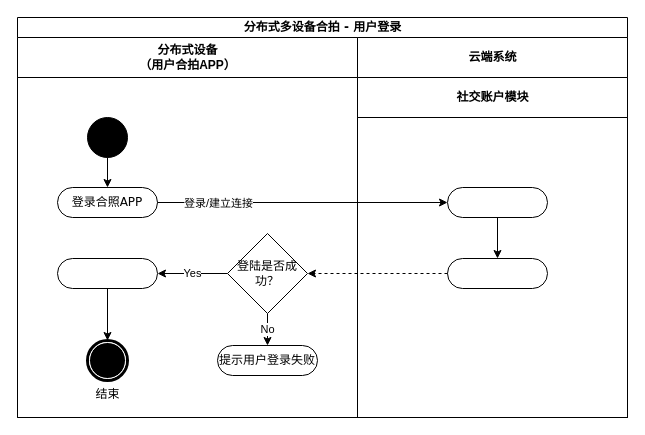
Image size: 645x435. Some labels were removed from this diagram. The centre of each missing label's shape, as x and y in pixels:
保持登录状态: point 107,273
开始: point 107,137
用户登录: point 497,202
返回登录结果: point 497,273
